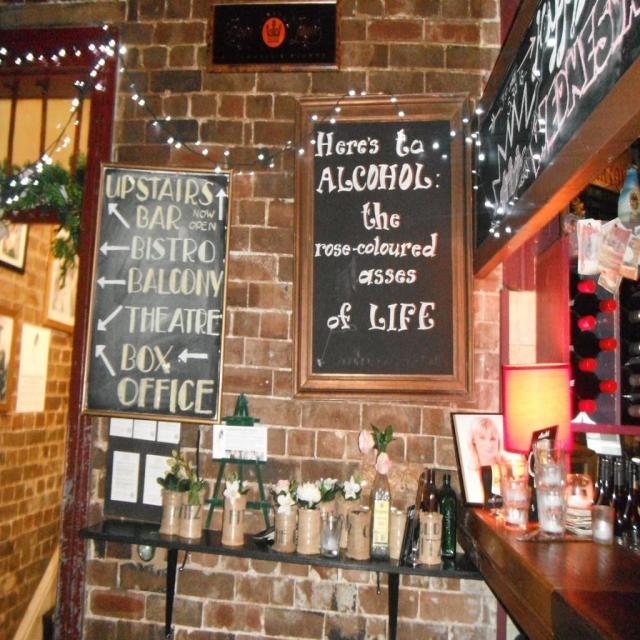table: (468, 490, 628, 630)
